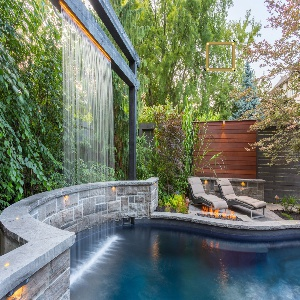square: (203, 40, 238, 71)
